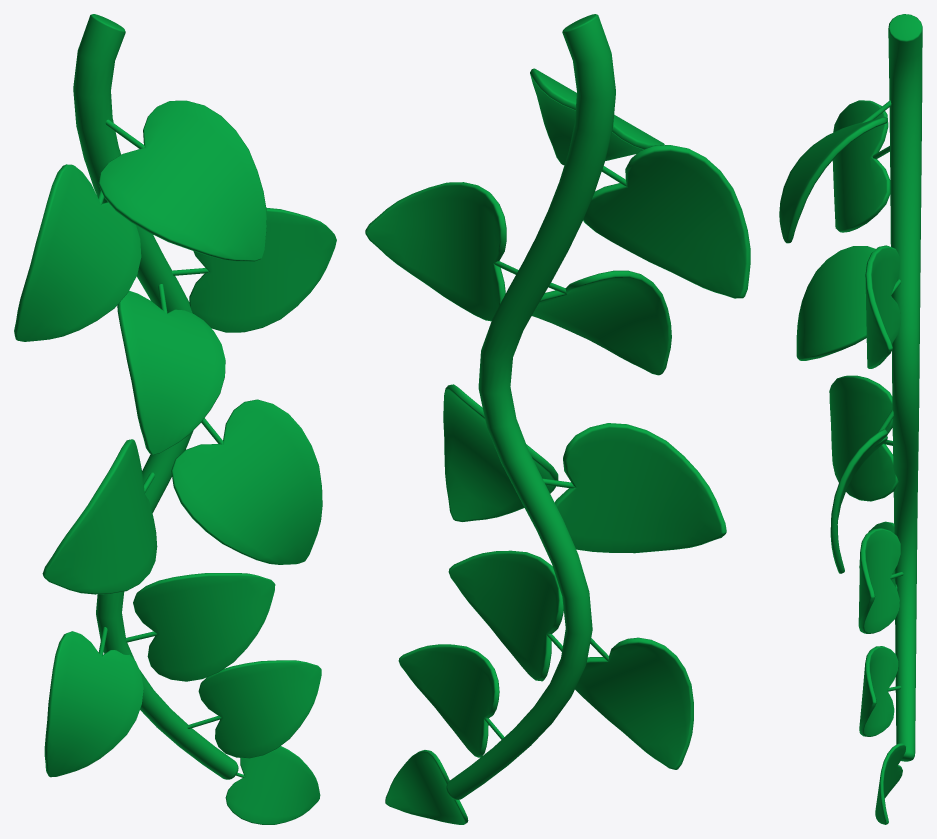
The model's file is Town_13_Ivy_2.glb.
3 views of the same model, side by side, from view 1: azimuth 30°, elevation 25°; view 2: azimuth 150°, elevation 25°; view 3: azimuth 270°, elevation 25° (orthographic). The views are drawn at different scales.
Visible parts, largest first — view 1: Town_13_Ivy_2; view 2: Town_13_Ivy_2; view 3: Town_13_Ivy_2.
Boxes of the visible parts, x1=… form: Town_13_Ivy_2: x1=14, y1=14, x2=336, y2=824; Town_13_Ivy_2: x1=365, y1=14, x2=750, y2=824; Town_13_Ivy_2: x1=779, y1=14, x2=922, y2=824.
Bounding box in the file's own units: 0.9355 × 2.15 × 0.3848.
Materials: 1 (1 with a texture image).
